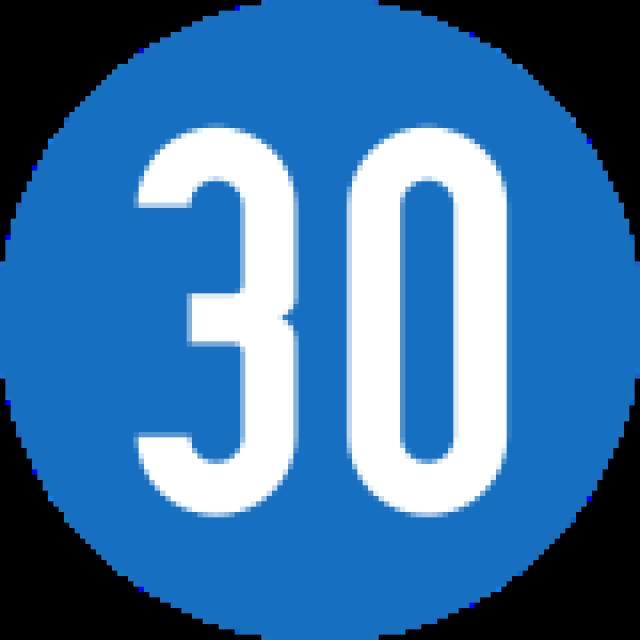Speed Limit -30-: (130, 121, 513, 521)
